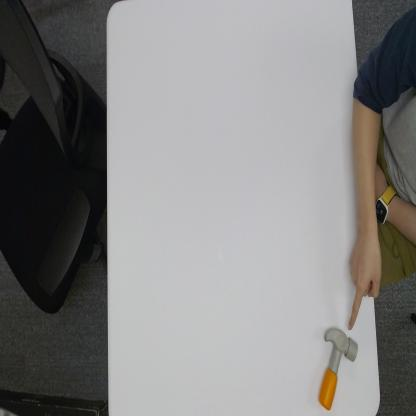Arm: (352, 70, 380, 235)
Hammer: (318, 326, 358, 410)
Hand: (348, 235, 382, 331)
